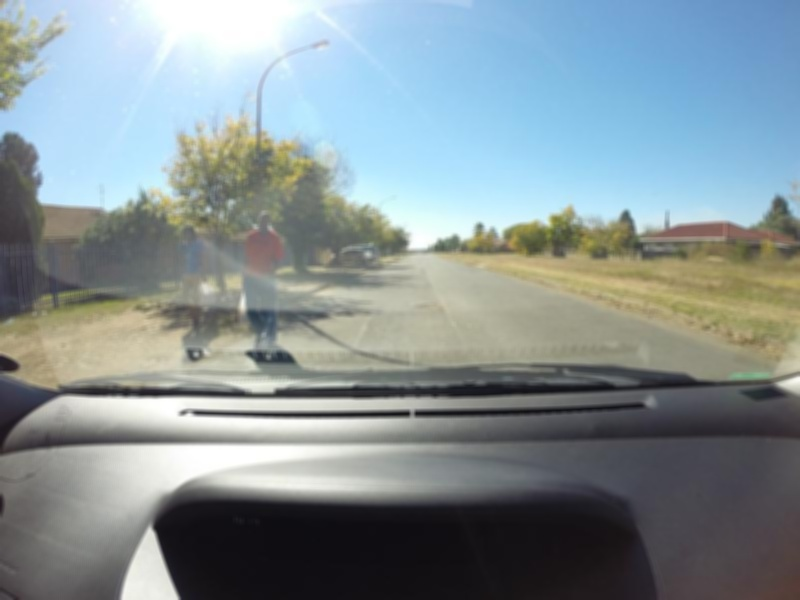pothole: (332, 300, 383, 322), (416, 294, 460, 315)
